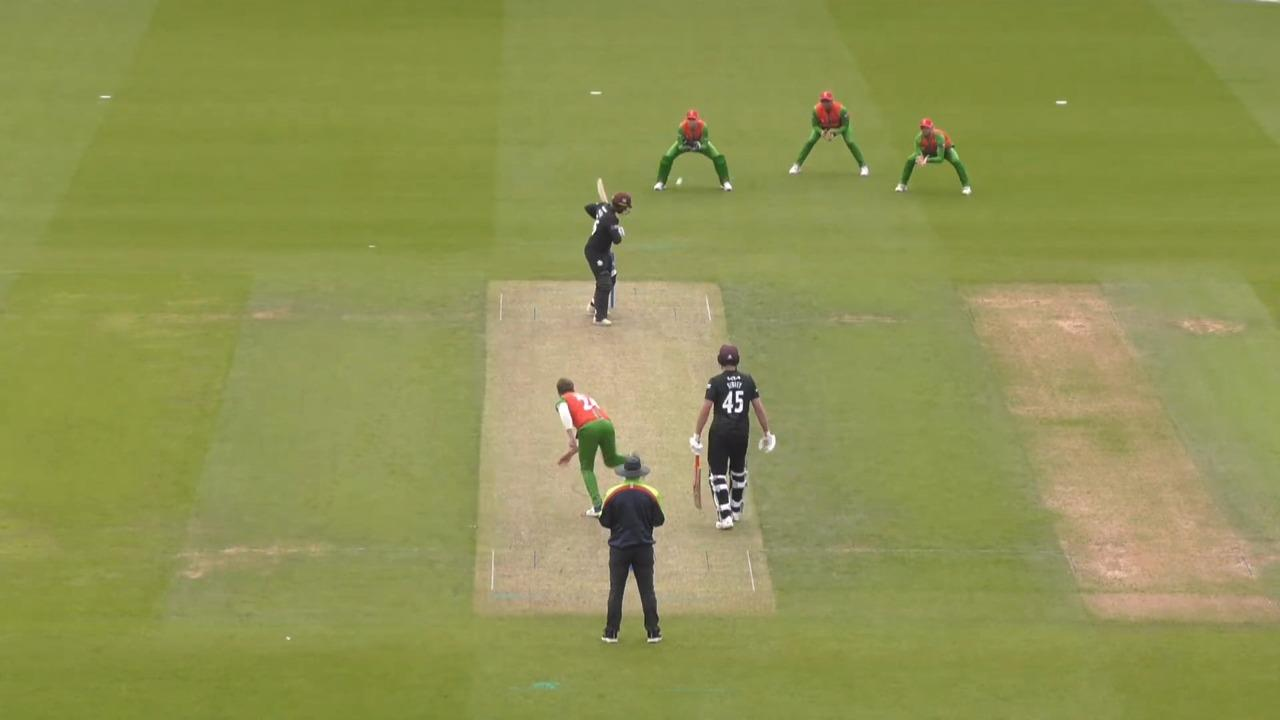sports ball: (676, 178, 683, 185)
